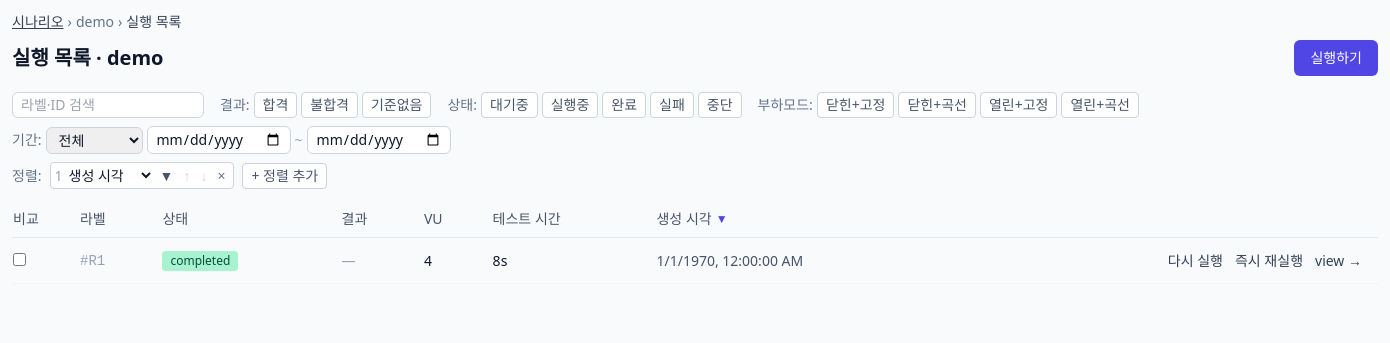
Test: ScenarioRunsPage — retry (A1) › surfaces a createRun error from '즉시 재실행'
Click the button "즉시 재실행" at (1269, 260), box left=1235, top=250, right=1303, bottom=270
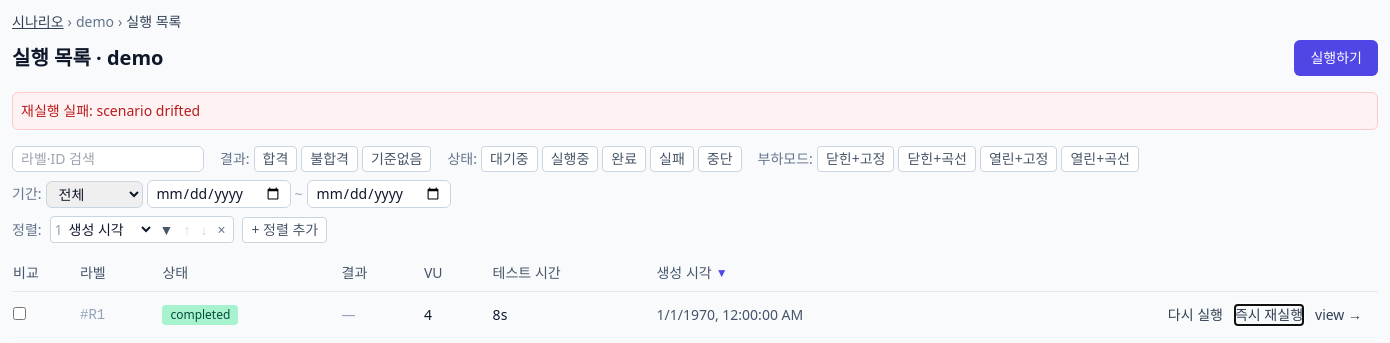
Result: the message shows "scenario drifted" at left=96, top=101, right=200, bottom=120
Result: the message shows "실패" at left=21, top=101, right=96, bottom=120
